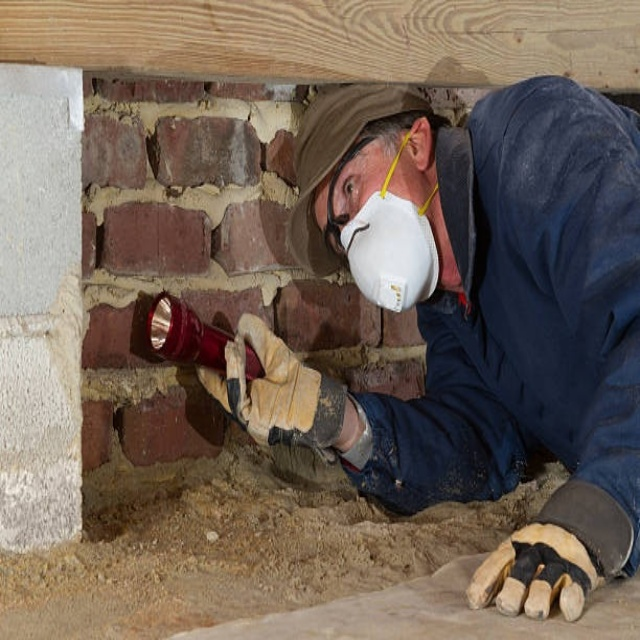Gafas: (324, 127, 381, 259)
Guantes: (198, 311, 346, 464), (466, 514, 611, 623)
Mascara: (340, 183, 439, 313)
